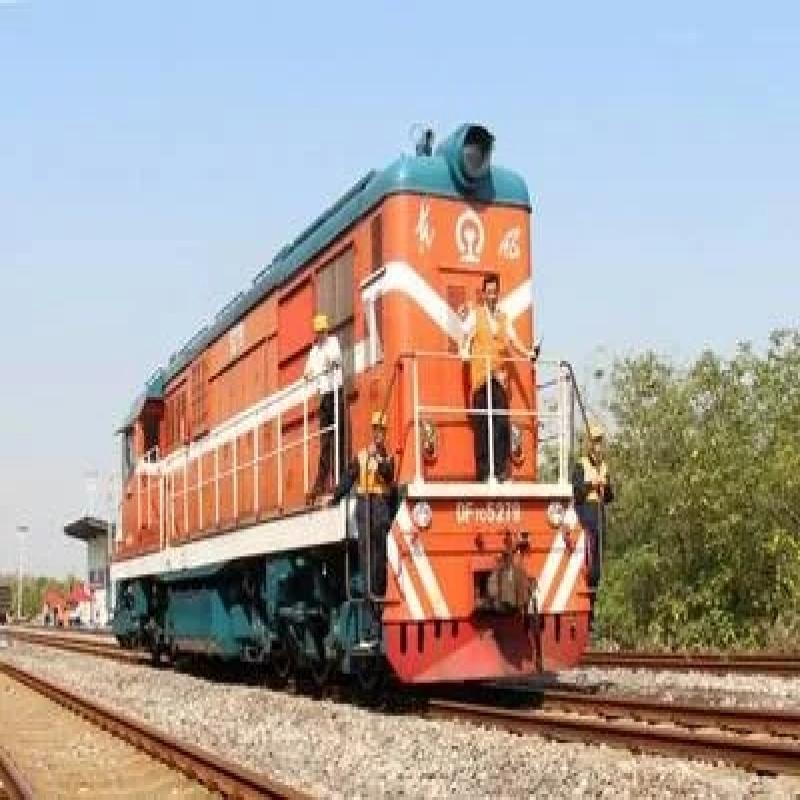train: (101, 97, 591, 717)
